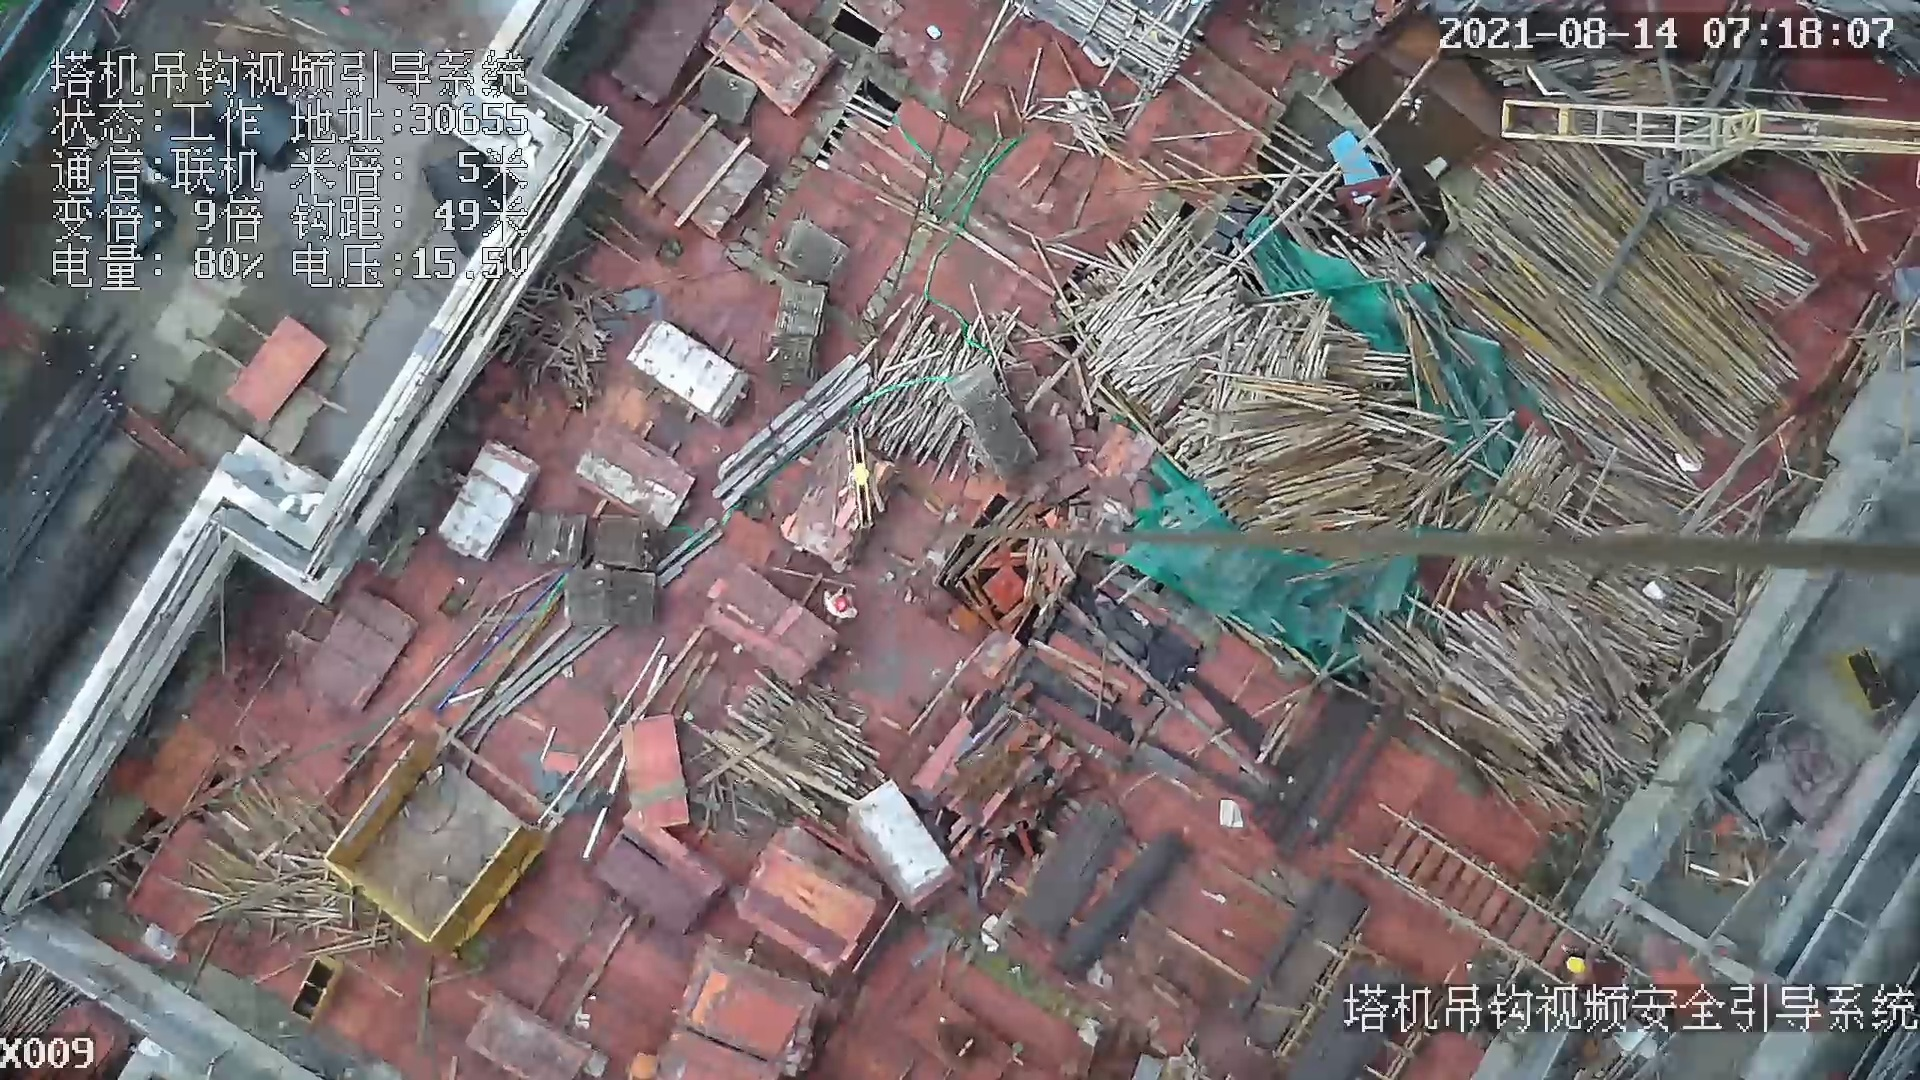helmet: (837, 591, 845, 615)
hook: (838, 422, 881, 535)
person: (826, 576, 865, 632)
